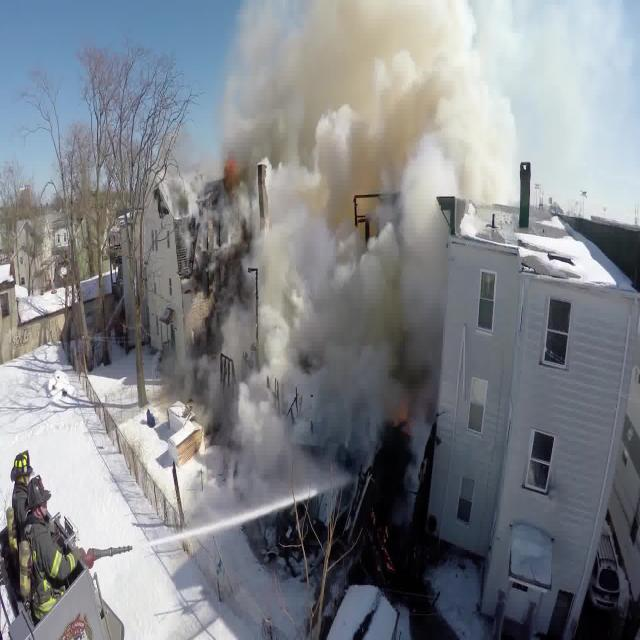Fire: (217, 140, 246, 207)
Smoke: (197, 0, 527, 529)
